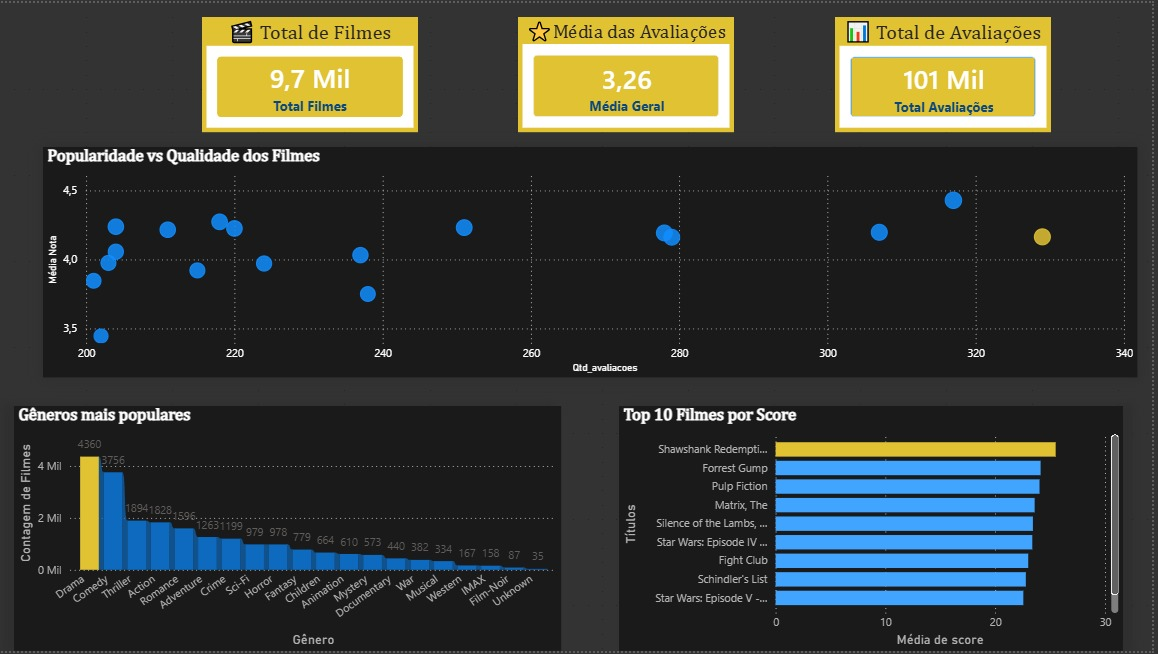

What the dashboard file says about the page in this screenshot:
{"tool":"powerbi","page":{"name":"Página 1","canvas":[1280,720],"ordinal":0},"visuals":[{"type":"scatterChart","title":"Popularidade vs Qualidade dos Filmes","fields":{"Size":["Avg(public vw_filmes_score.score)"],"X":["public vw_filmes_metricas.Qtd_avaliacoes"],"Y":["public vw_filmes_metricas.Média Nota"],"Series":["public vw_filmes_metricas.title"]},"box":[48,160,1216,256],"z":0},{"type":"columnChart","title":"Gêneros mais populares","fields":{"Category":["public vw_filmes_generos.genero"],"Y":["CountNonNull(public vw_filmes_generos.movie_id)"]},"box":[16,448,608,272],"z":1000},{"type":"cardVisual","title":"🎬 Total de Filmes","fields":{"Data":["public vw_filmes_metricas.Total Filmes"]},"box":[224,16,240,128],"z":3000},{"type":"cardVisual","title":"📊 Total de Avaliações","fields":{"Data":["public vw_filmes_metricas.Total Avaliações"]},"box":[928,16,240,128],"z":4000},{"type":"clusteredBarChart","title":"Top 10 Filmes por Score","fields":{"Category":["public vw_filmes_metricas.title"],"Y":["Avg(public vw_filmes_score.score)"]},"box":[688,448,560,272],"z":5000},{"type":"cardVisual","title":"⭐Média das Avaliações","fields":{"Data":["public vw_filmes_metricas.Média Geral"]},"box":[576,16,240,128],"z":6000}]}

Visuals, with their boxes in screenshot pixels (x1, y1, x2, y2), scaled from the page's 1280x720 canvas onto the 1158x654 screenshot:
"Popularidade vs Qualidade dos Filmes" scatterChart: 43,145,1144,378
"Gêneros mais populares" columnChart: 14,407,565,653
"🎬 Total de Filmes" cardVisual: 203,15,420,131
"📊 Total de Avaliações" cardVisual: 840,15,1057,131
"Top 10 Filmes por Score" clusteredBarChart: 622,407,1129,653
"⭐Média das Avaliações" cardVisual: 521,15,738,131
